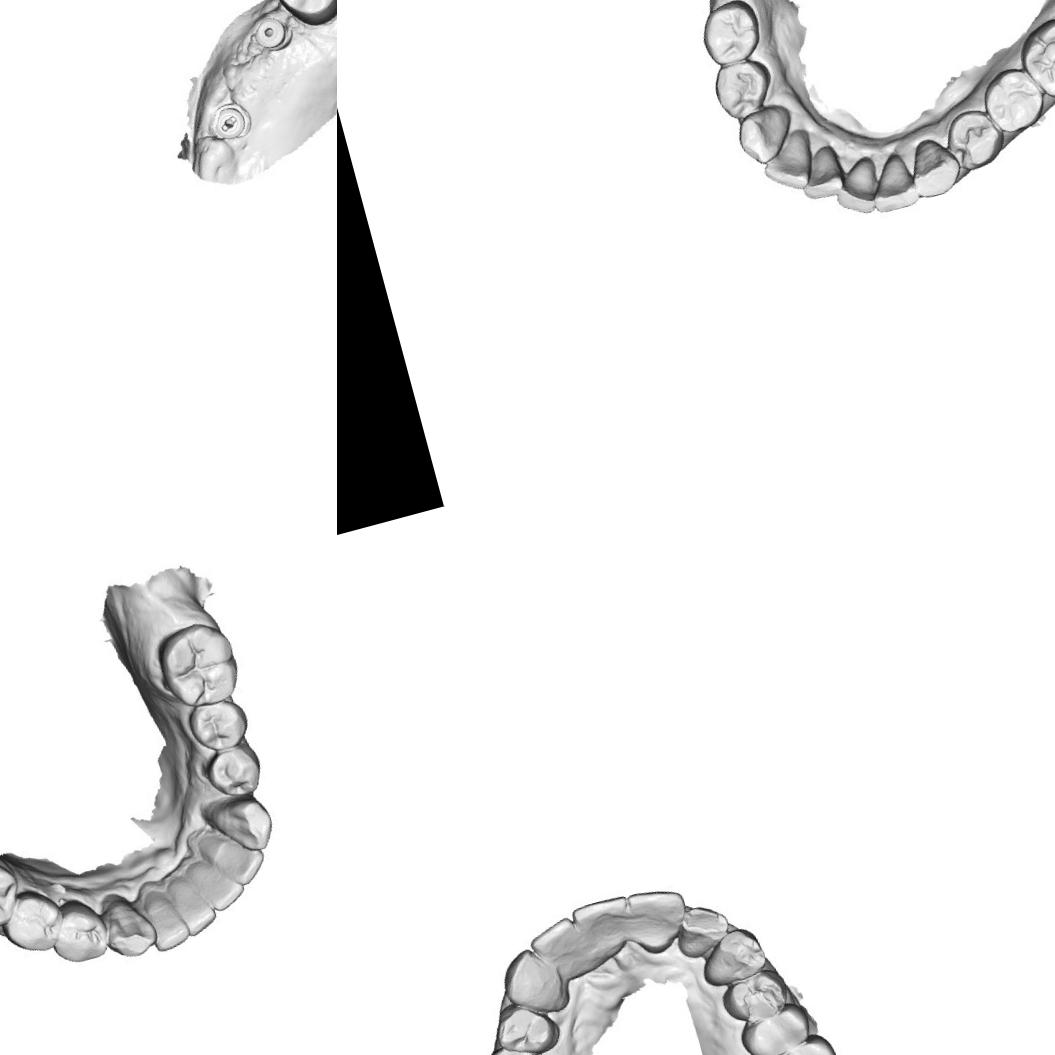canine: (202, 786, 280, 862), (95, 888, 165, 967), (729, 100, 798, 169), (499, 943, 566, 1014), (902, 130, 963, 206), (699, 933, 763, 984)
implant: (249, 10, 288, 53)
implant_minus: (206, 98, 256, 146)
incisor: (191, 815, 271, 894), (133, 872, 198, 956), (623, 880, 694, 954), (567, 892, 638, 966), (183, 839, 251, 916), (523, 915, 591, 984), (166, 866, 222, 941), (759, 129, 820, 194), (674, 895, 733, 958), (794, 142, 851, 202), (830, 156, 884, 212), (868, 151, 918, 210)
molar: (145, 613, 247, 716), (1010, 6, 1055, 108), (0, 842, 30, 941), (759, 1034, 838, 1055)
premolar: (0, 881, 70, 963), (43, 890, 114, 969), (940, 98, 1010, 177), (178, 690, 251, 756), (982, 65, 1046, 140), (198, 736, 268, 804), (714, 50, 779, 120), (740, 1001, 816, 1055), (490, 996, 557, 1055), (699, 0, 761, 60), (720, 970, 788, 1022), (266, 0, 337, 26), (482, 1041, 553, 1055)
